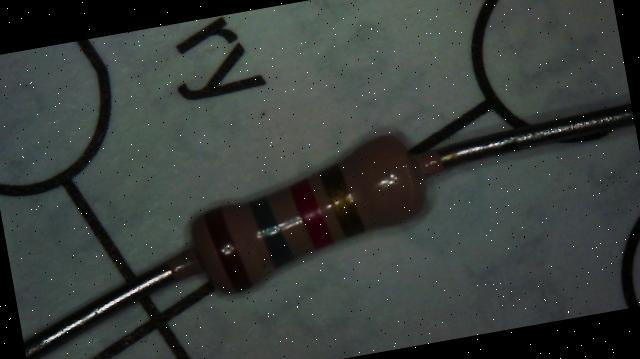brown: (204, 204, 250, 292)
gold: (320, 162, 364, 238)
grey: (249, 194, 294, 268)
red: (290, 177, 332, 250)
resistor: (166, 103, 458, 316)
